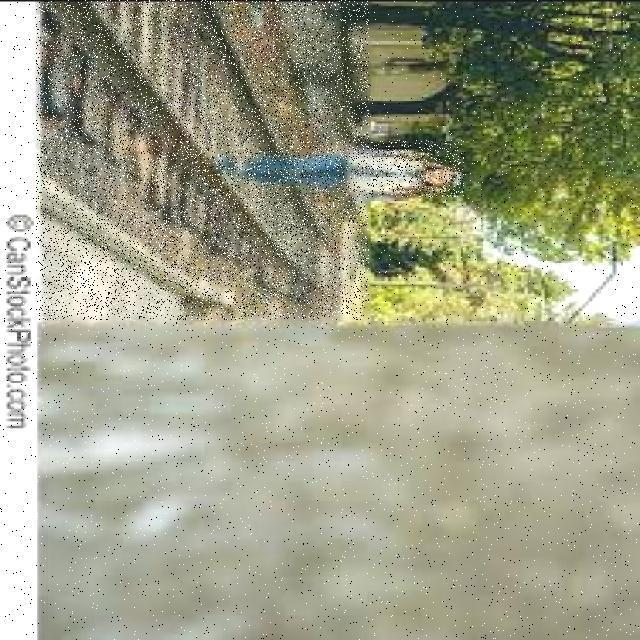danger: (218, 140, 464, 197)
rail: (37, 0, 369, 320)
